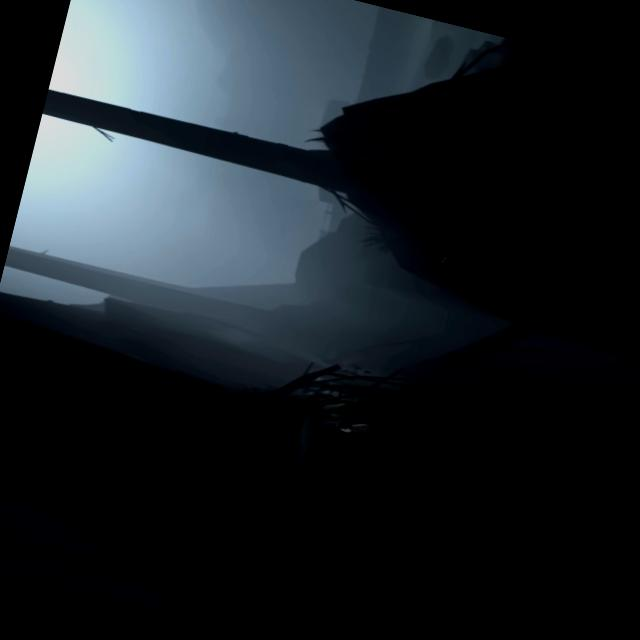boy: (334, 414, 421, 450)
